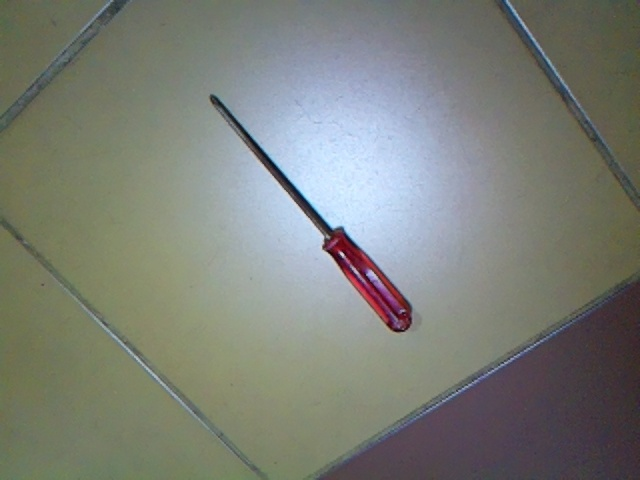redskrew: (201, 95, 424, 340)
